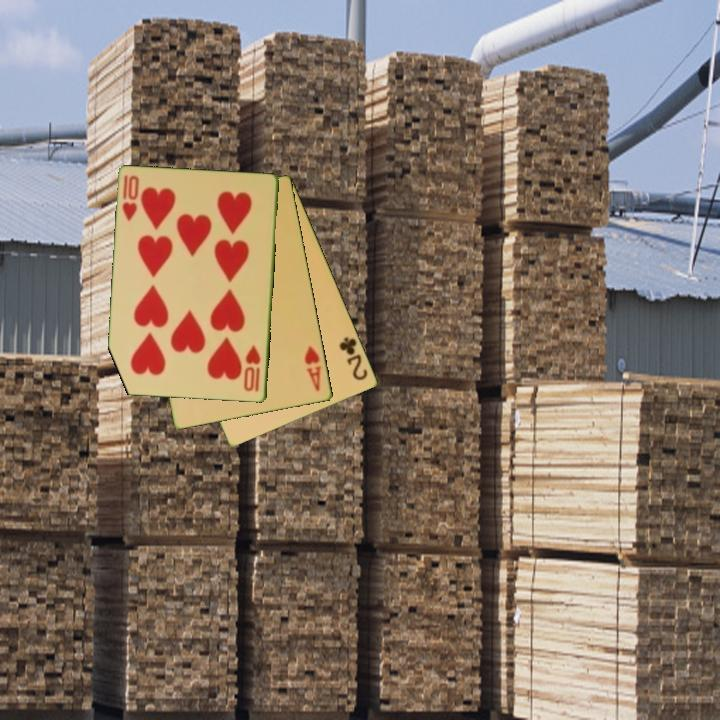10h: (241, 342, 264, 395), (119, 172, 142, 224)
2c: (336, 333, 371, 384)
Ah: (301, 343, 324, 394)
